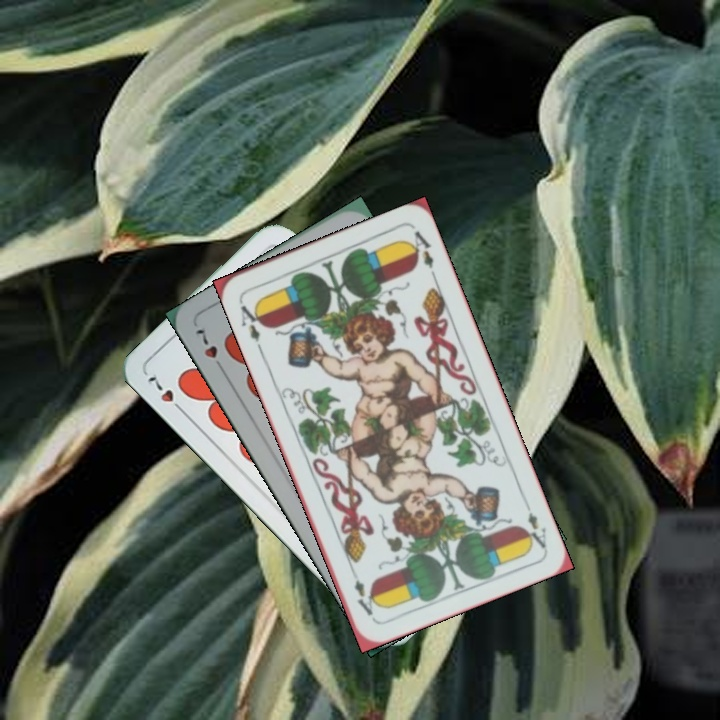EA: (519, 495, 550, 551), (236, 300, 268, 345)
H7: (143, 372, 189, 417), (191, 324, 228, 376)
